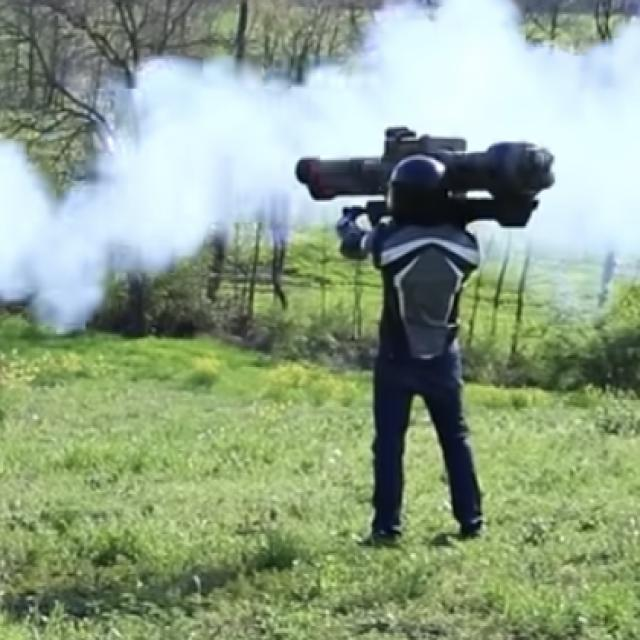bazooka: (283, 116, 566, 246)
